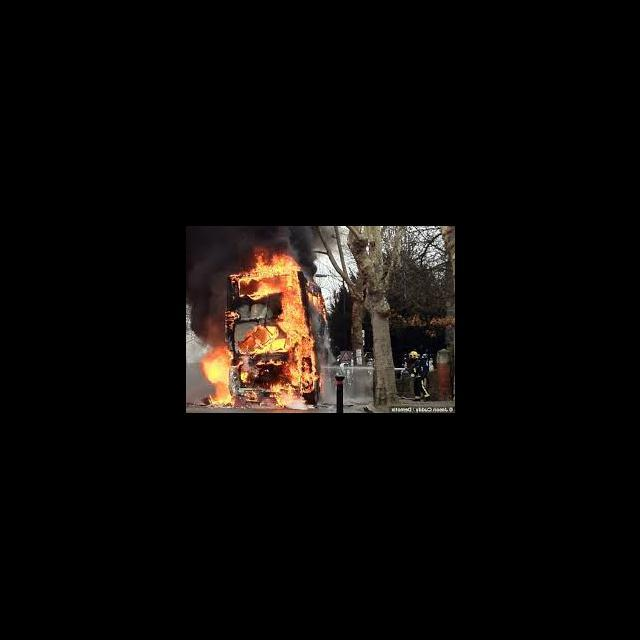Fire: (228, 253, 320, 409), (200, 349, 234, 408)
Smoke: (190, 226, 226, 342), (225, 228, 320, 252)
